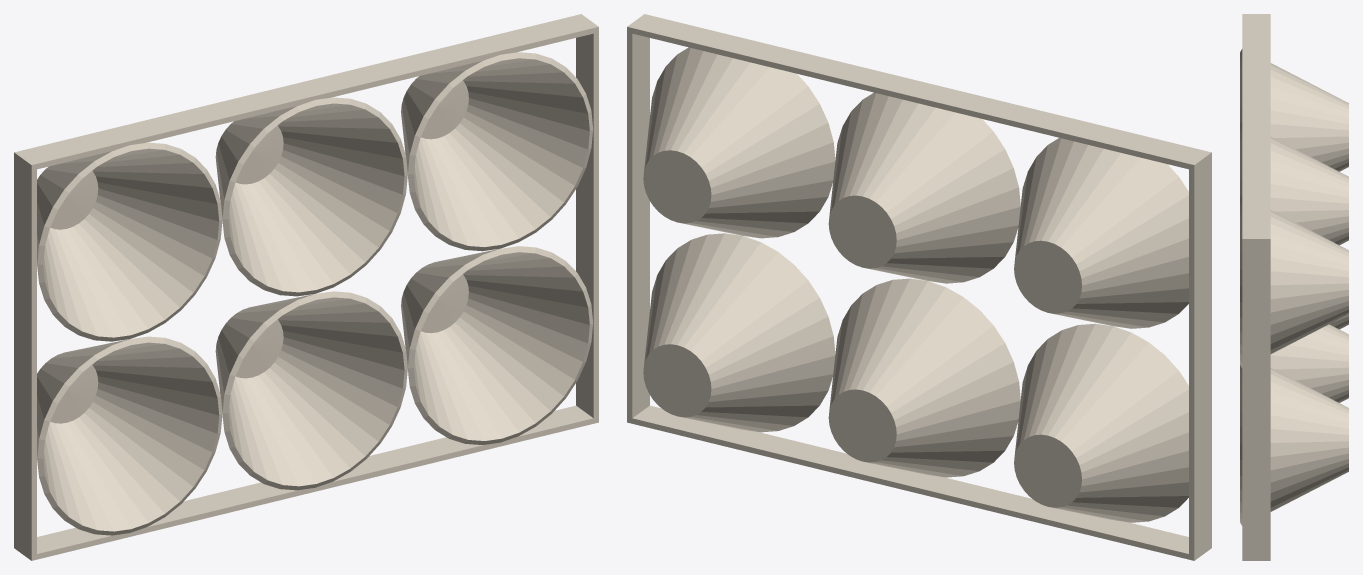
3 views of the same model, side by side, from view 1: azimuth 30°, elevation 25°; view 2: azimuth 150°, elevation 25°; view 3: azimuth 270°, elevation 25° (orthographic). The views are drawn at different scales.
Visible parts, largest first — view 1: world; view 2: world; view 3: world.
Boxes of the visible parts, box(x1,y1,x2,y2) form: world: box(14, 14, 598, 560); world: box(627, 14, 1211, 560); world: box(1240, 14, 1348, 560).
Bounding box in the file's own units: 0.15 × 0.1 × 0.0306.
